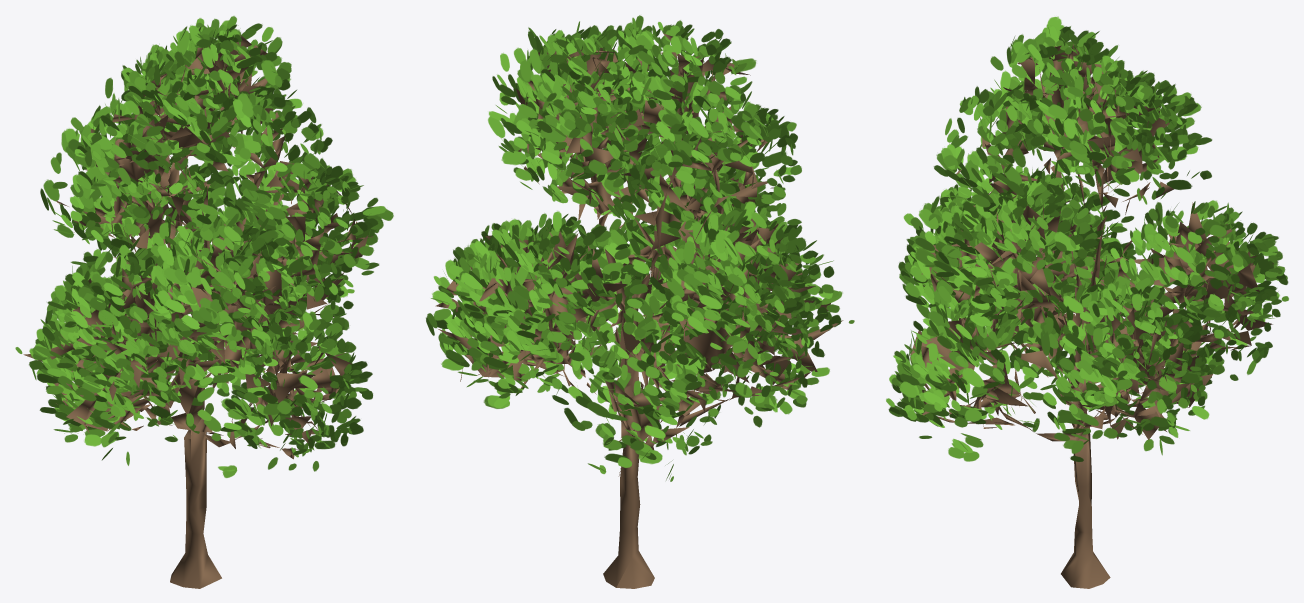
Rendered from stylized-tree-far.glb.
3 views of the same model, side by side, from view 1: azimuth 30°, elevation 25°; view 2: azimuth 150°, elevation 25°; view 3: azimuth 270°, elevation 25° (orthographic). The views are drawn at different scales.
Parts seen in each view (by area): view 1: oak 01, oak 01.001; view 2: oak 01, oak 01.001; view 3: oak 01, oak 01.001.
Part boxes in pixels (x1,y1,x2,y2): oak 01: [15, 16, 393, 477]; oak 01.001: [23, 34, 372, 588]; oak 01: [426, 15, 854, 481]; oak 01.001: [435, 33, 843, 588]; oak 01: [886, 16, 1288, 461]; oak 01.001: [909, 44, 1273, 588].
Bounding box in the file's own units: 0.3678 × 0.564 × 0.389.
2 materials, 1 textured.
